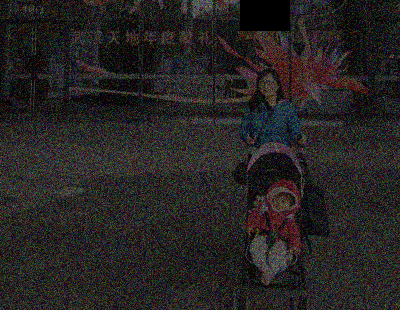without_mask: (259, 76, 277, 94), (273, 192, 289, 210)
